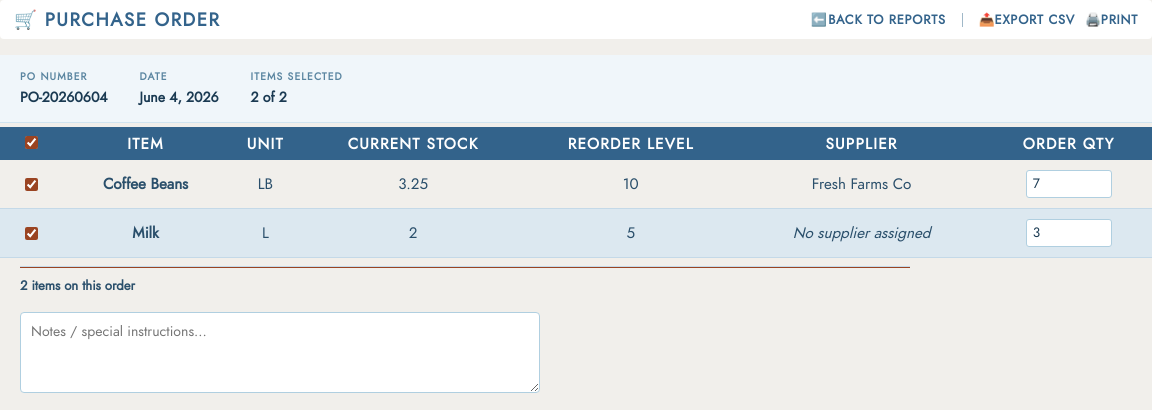
AdminPurchaseOrderPage › can deselect one item
Expected: the text "Coffee Beans" is shown, [63,160,228,208]
What coordinates should you click on to do the following:
click the checkbox next to "Coffee Beans"
I would click on:
 (32, 184)
Its box is [25,178,38,190].
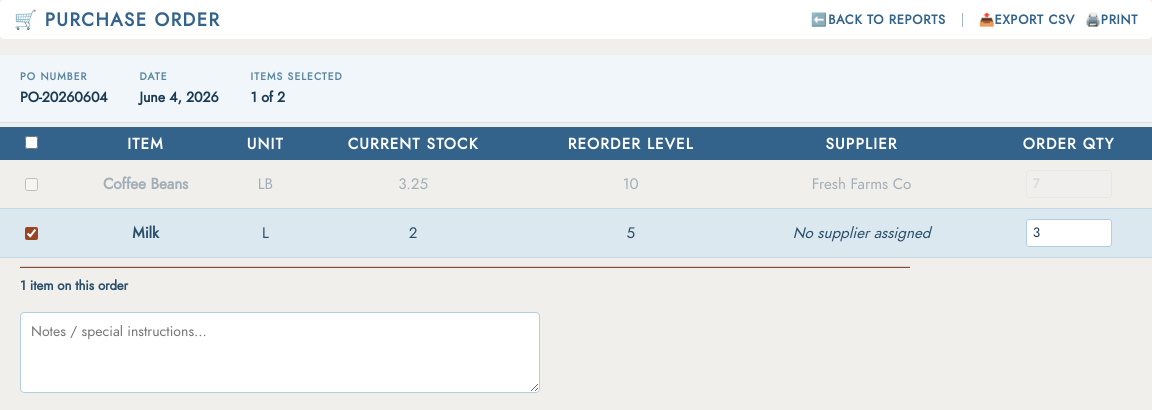
Expected: the text "1 item on this order" is shown, [20,276,128,295]
